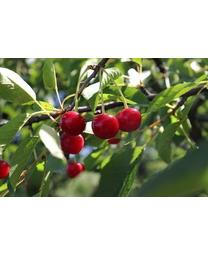cherry: (92, 113, 121, 140), (59, 108, 85, 136), (117, 106, 142, 132), (58, 133, 83, 152), (68, 162, 84, 178)
